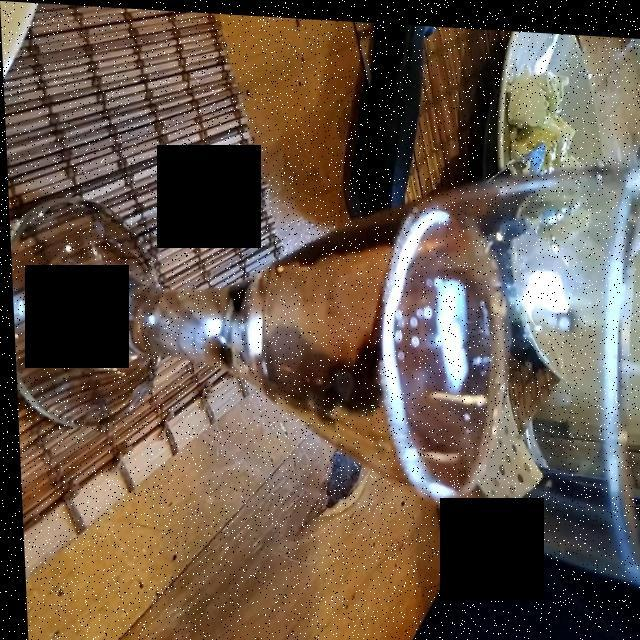wine: (258, 192, 527, 488)
